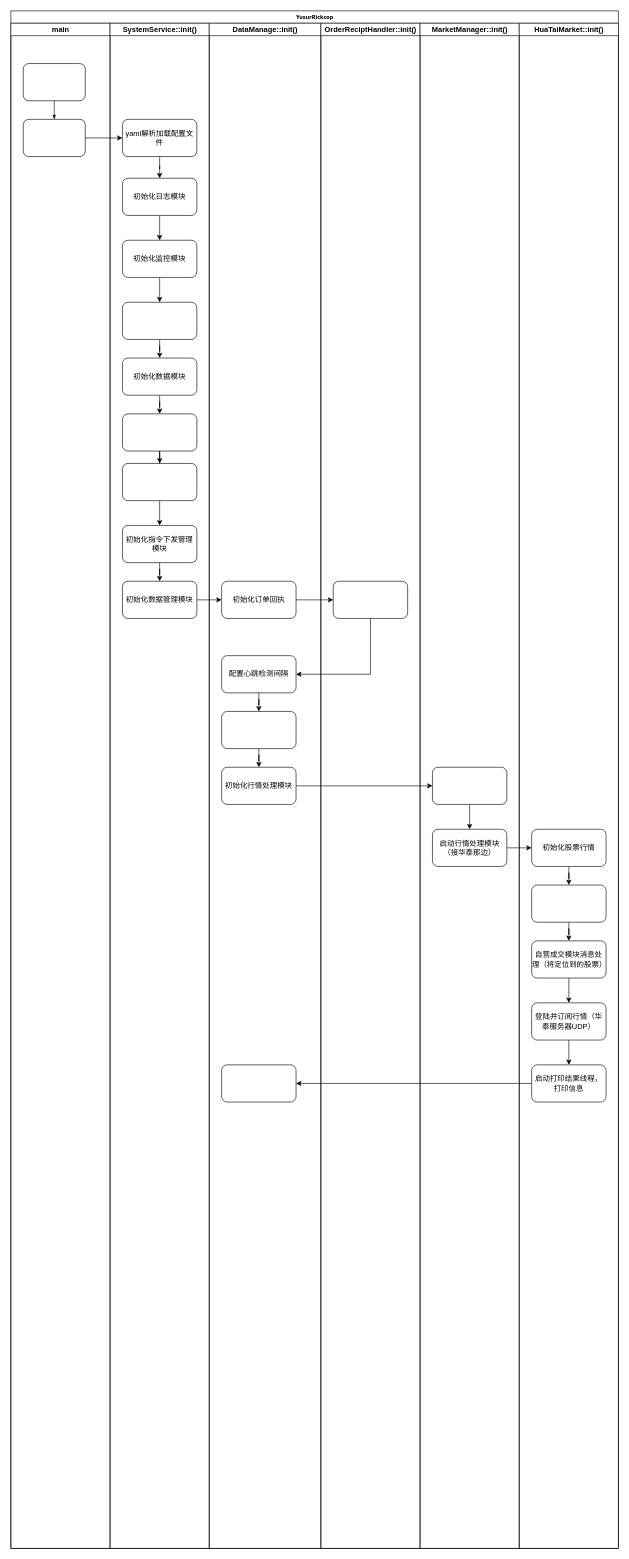
The diagram is 629 pixels wide and 1559 high, and some of its shapes have lost their labels. Here are the shapes that lost their labels. From the top down, the centre of each, then its label:
At (54,82): "没有已运行程序".
At (54,138): "init".
At (159,320): "初始化pipeline".
At (159,432): "check规则".
At (159,482): "初始化告警模块".
At (370,599): "获取规则和股票数据（证券信息、账户信息等）".
At (258,730): "初始化kafkaconsumer".
At (469,785): "读取行情配置".
At (568,903): "timer消息处理（作用时定时触发，则下发当前行情快照）".
At (258,1083): "初始化拉抬打压模块".
